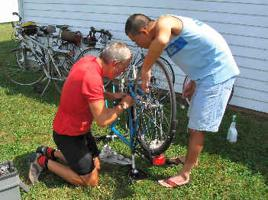person: (24, 42, 137, 191)
